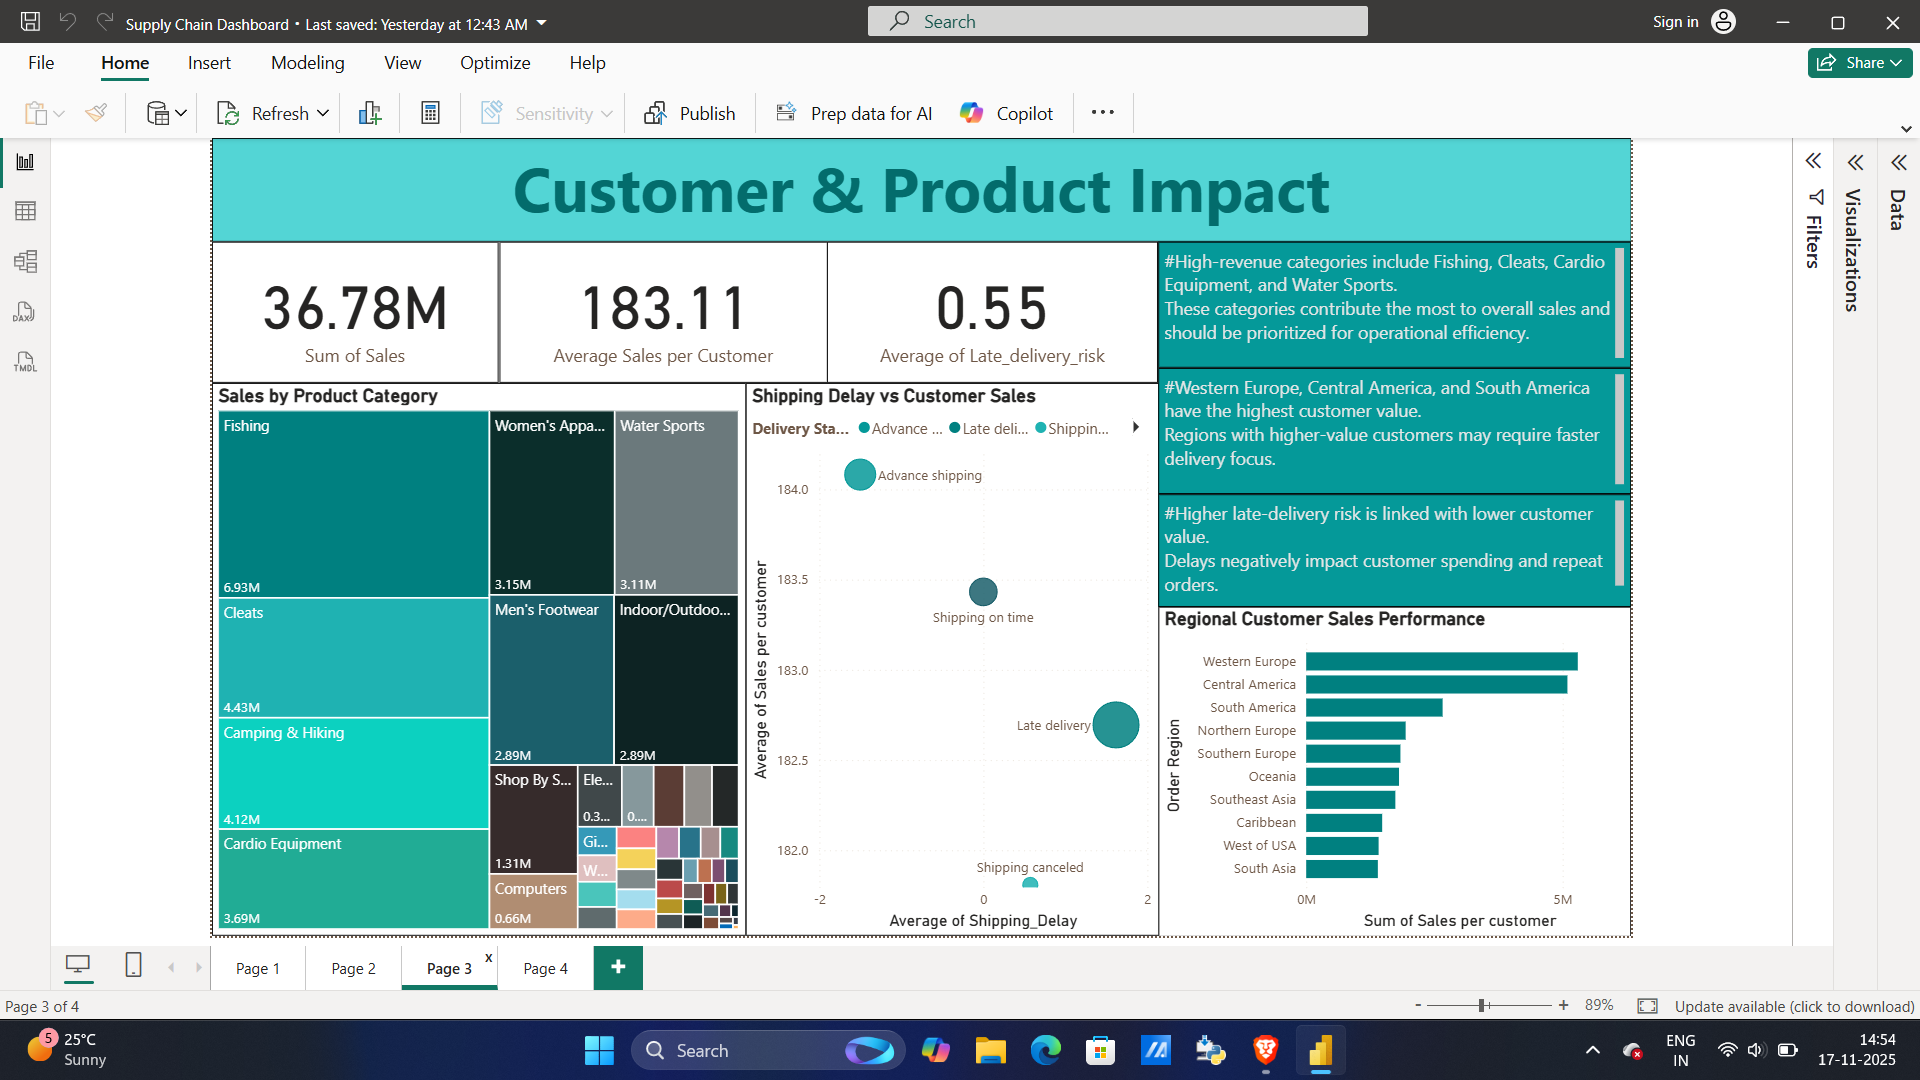

The page's visual inventory and layout, read from the dashboard file:
{"tool":"powerbi","page":{"name":"Page 3","canvas":[1280,720],"ordinal":2},"visuals":[{"type":"clusteredBarChart","title":"Regional Customer Sales Performance","fields":{"Category":["Cleaned_SupplyChain.Order Region"],"Y":["Sum(Cleaned_SupplyChain.Sales per customer)"]},"box":[853.8,422.5,426.2,297.5],"z":0},{"type":"textbox","box":[0,0,1280,93.8],"z":1000},{"type":"card","fields":{"Values":["Sum(Cleaned_SupplyChain.Sales)"]},"box":[0,93.8,258.8,127.5],"z":2000},{"type":"card","fields":{"Values":["Cleaned_SupplyChain.Average Sales per Customer"]},"box":[258.8,93.8,296.2,127.5],"z":3000},{"type":"card","fields":{"Values":["Avg(Cleaned_SupplyChain.Late_delivery_risk)"]},"box":[555,93.8,298.8,127.5],"z":4000},{"type":"treemap","title":"Sales by Product Category","fields":{"Group":["Cleaned_SupplyChain.Category Name"],"Values":["Sum(Cleaned_SupplyChain.Sales)"]},"box":[0,221.2,481.2,498.8],"z":5000},{"type":"scatterChart","title":"Shipping Delay vs Customer Sales","fields":{"X":["Avg(Cleaned_SupplyChain.Shipping_Delay)"],"Y":["Avg(Cleaned_SupplyChain.Sales per customer)"],"Size":["Sum(Cleaned_SupplyChain.Sales)"],"Series":["Cleaned_SupplyChain.Delivery Status"]},"box":[481.2,221.2,372.5,498.8],"z":6000},{"type":"textbox","box":[853.8,93.8,426.2,113.8],"z":7000},{"type":"textbox","box":[853.8,207.5,426.2,113.8],"z":8000},{"type":"textbox","box":[853.8,321.2,426.2,101.2],"z":9000}]}

Visuals, with their boxes on the page's 1280x720 design canvas (x1, y1, x2, y2). These are canvas units, not pixel positions in the 1920x1080 screenshot, which may show the page scaled, cropped or inside an application window:
"Regional Customer Sales Performance" clusteredBarChart: [x1=854, y1=422, x2=1280, y2=720]
textbox: [x1=0, y1=0, x2=1280, y2=94]
card - Sum(Cleaned_SupplyChain.Sales): [x1=0, y1=94, x2=259, y2=221]
card - Cleaned_SupplyChain.Average Sales per Customer: [x1=259, y1=94, x2=555, y2=221]
card - Avg(Cleaned_SupplyChain.Late_delivery_risk): [x1=555, y1=94, x2=854, y2=221]
"Sales by Product Category" treemap: [x1=0, y1=221, x2=481, y2=720]
"Shipping Delay vs Customer Sales" scatterChart: [x1=481, y1=221, x2=854, y2=720]
textbox: [x1=854, y1=94, x2=1280, y2=208]
textbox: [x1=854, y1=208, x2=1280, y2=321]
textbox: [x1=854, y1=321, x2=1280, y2=422]
